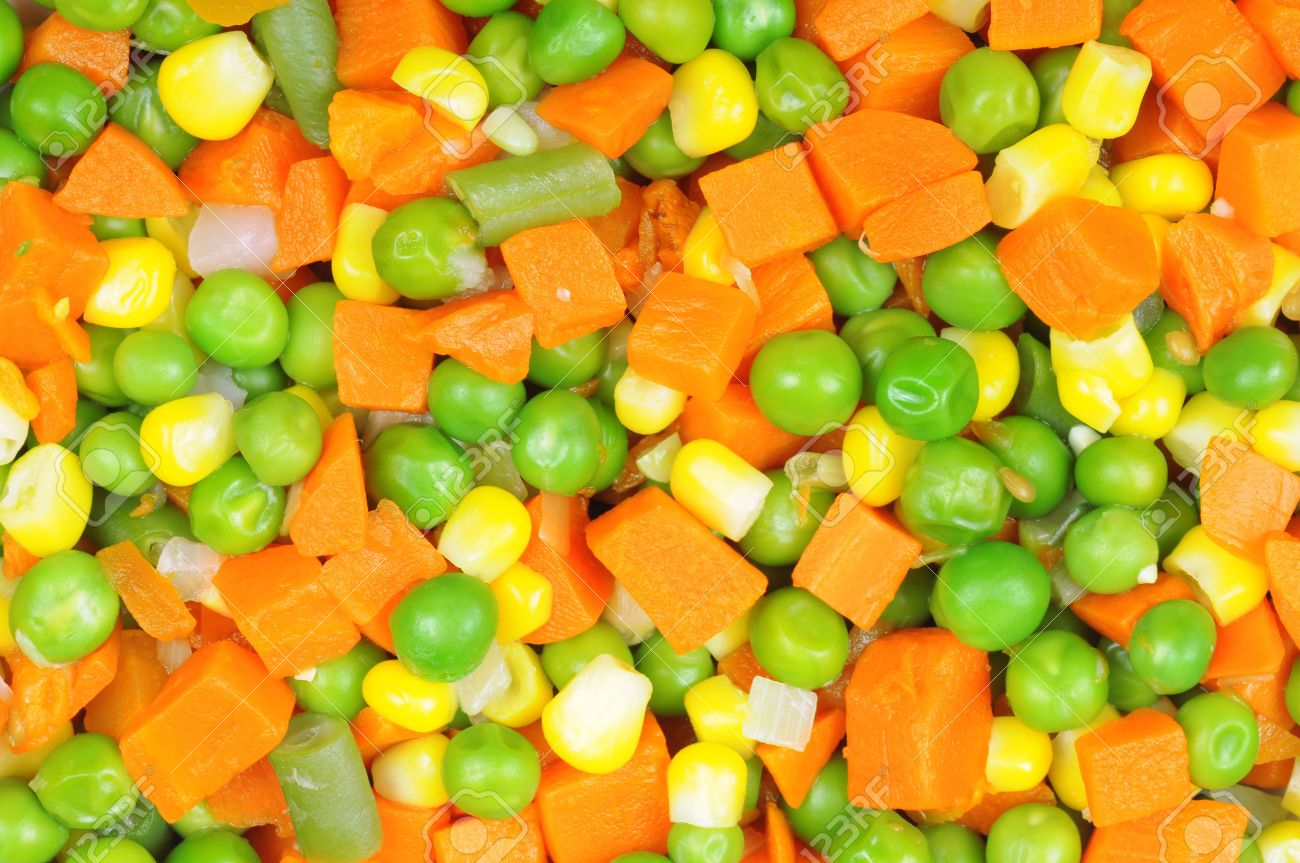boiled peas: (867, 341, 1010, 444), (887, 441, 1037, 528), (943, 541, 1060, 651), (757, 338, 873, 438), (380, 204, 503, 298), (167, 278, 293, 351)
